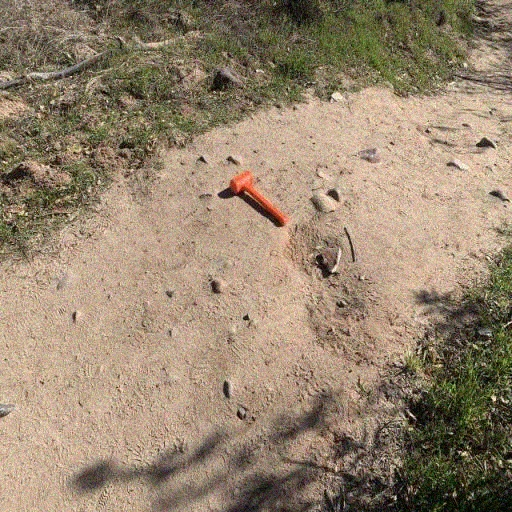mallet: (230, 170, 288, 226)
